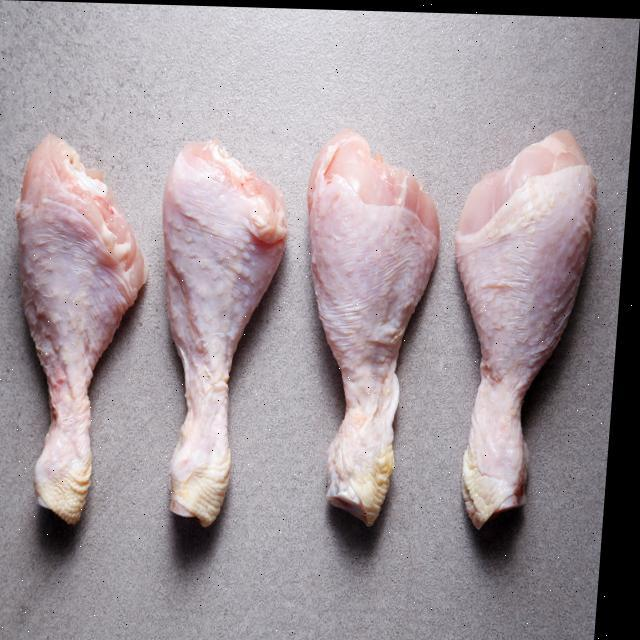leg: (441, 123, 604, 551), (292, 126, 456, 539), (146, 142, 295, 541), (9, 141, 151, 532)
